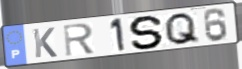1: (109, 16, 127, 53)
6: (202, 7, 229, 44)
K: (31, 26, 59, 59)
Q: (163, 11, 202, 46)
R: (61, 22, 97, 58)
S: (128, 15, 166, 51)
